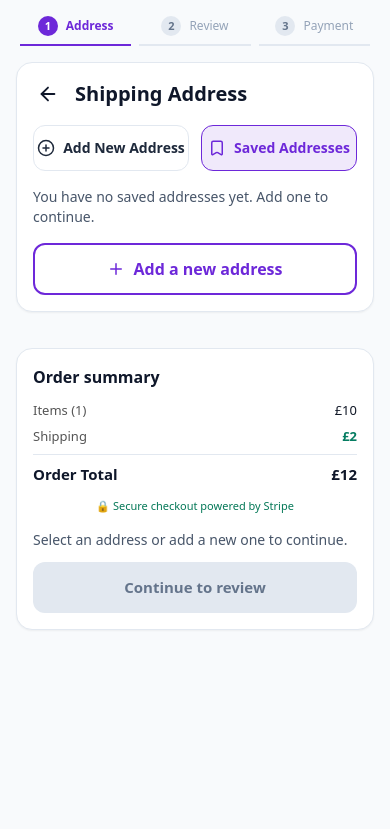
checkout shipping addresses › offers adding an address when none exist
Expected: the text "You have no saved addresses yet. Add one to continue." is shown, [33, 187, 357, 227]
Expected: the button "Continue to review" is disabled, [33, 562, 357, 612]
Click the button "Add a new address": (195, 269) [33, 243, 357, 295]
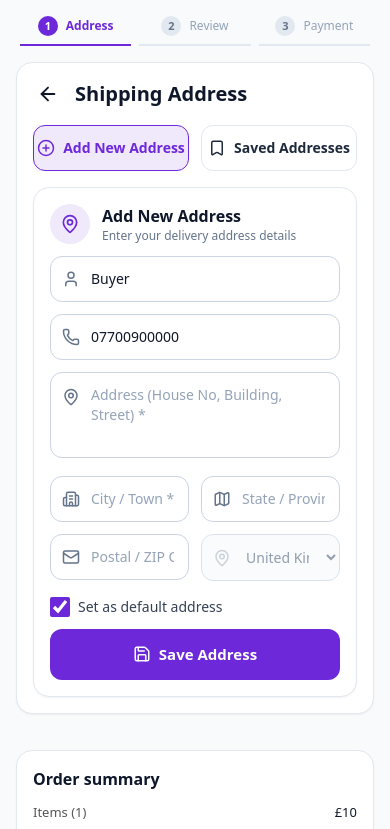
Result: the text box named "street address" is shown at [50, 372, 340, 458]
